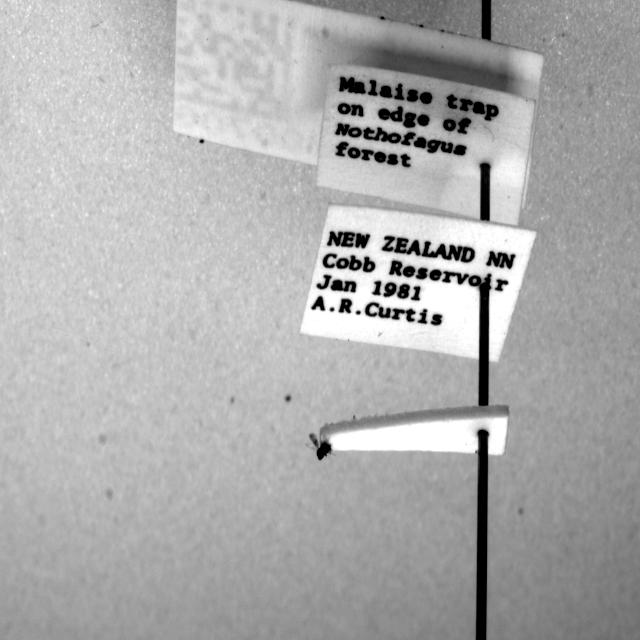typed_label: (301, 204, 535, 362), (316, 66, 535, 225)
